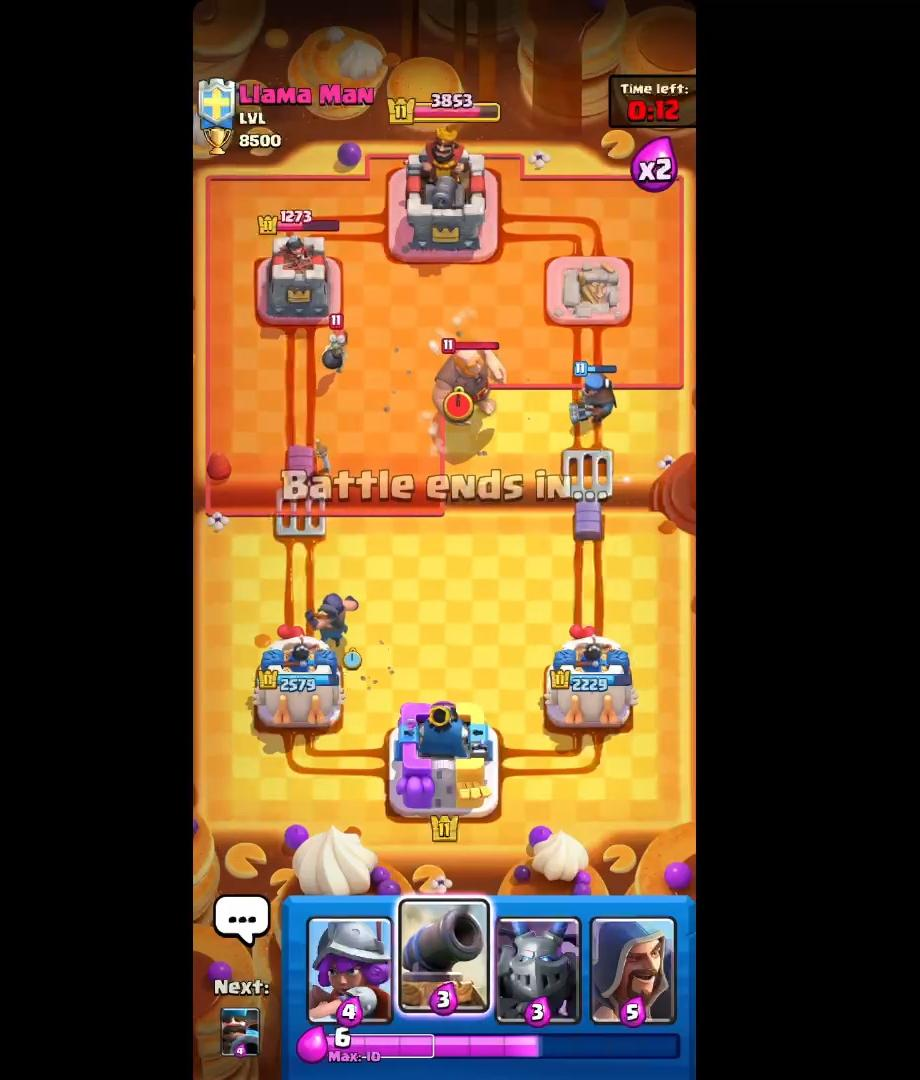Bomber: (319, 309, 353, 377)
